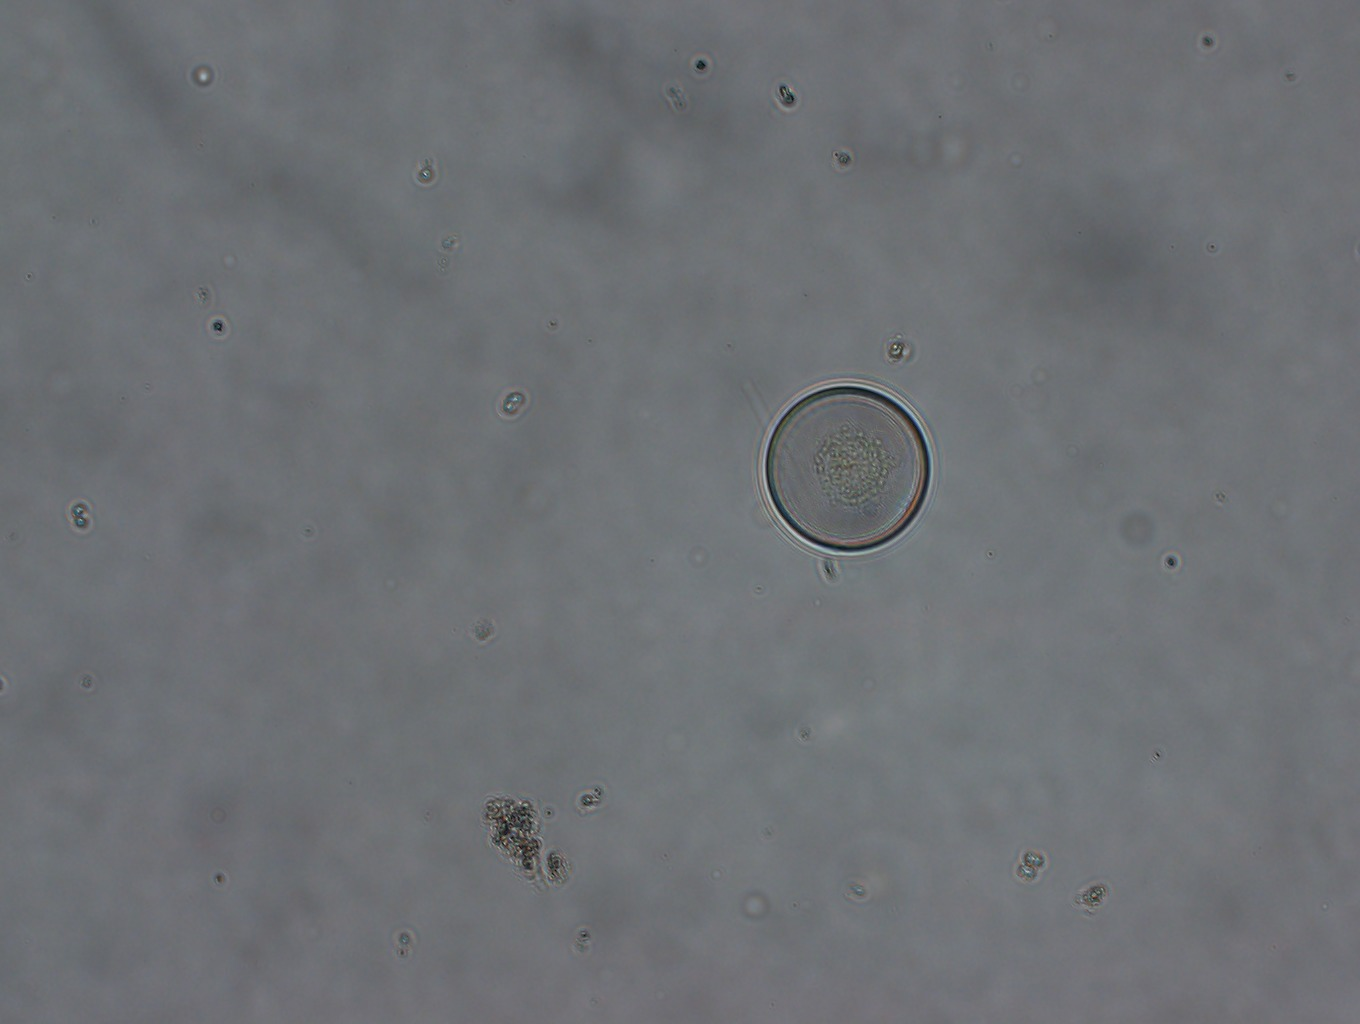coscinodiscus: (757, 375, 939, 561)
